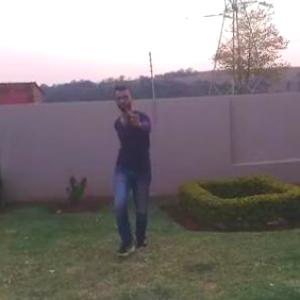takeoff-hand: (127, 103, 149, 132)
